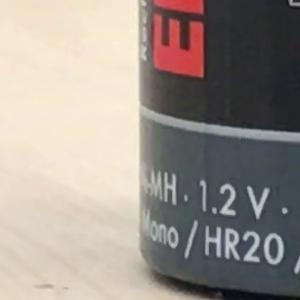keyword: (196, 224, 293, 267)
